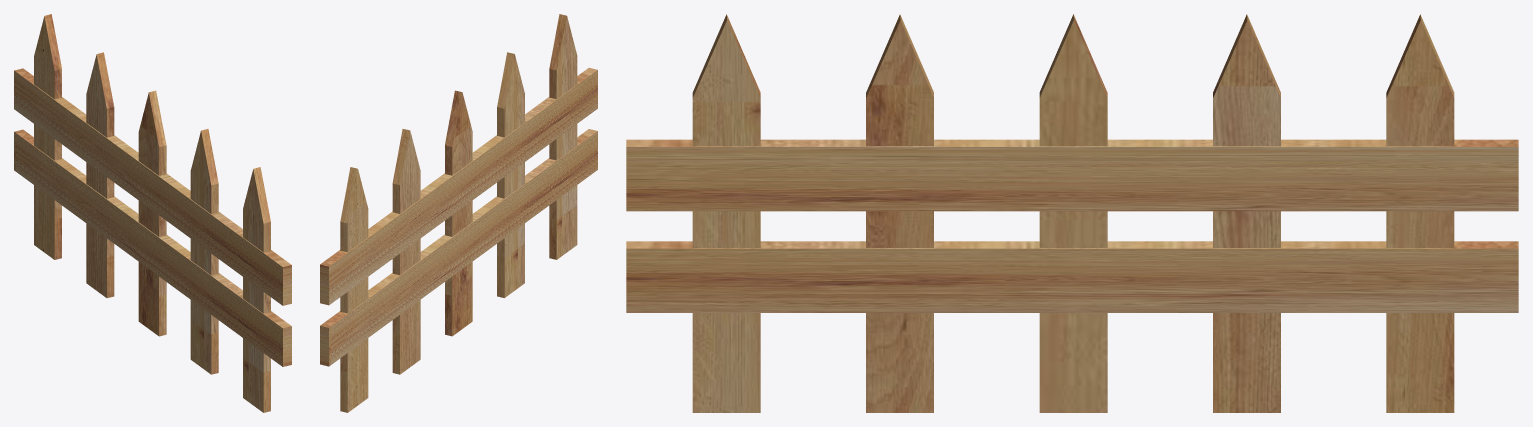
The model's file is cerca.glb.
The picture shows the model from 3 angles, left to right: view 1: azimuth 30°, elevation 25°; view 2: azimuth 150°, elevation 25°; view 3: azimuth 270°, elevation 25°; orthographic projection. The views are drawn at different scales.
Visible parts, largest first — view 1: Plane; view 2: Plane; view 3: Plane.
Boxes of the visible parts, bbox=[...] form: Plane: bbox=[14, 14, 291, 412]; Plane: bbox=[320, 14, 597, 412]; Plane: bbox=[626, 14, 1518, 412].
Size of the model in its own units: 0.0641 by 1.6 by 3.3.
Materials: 1 (1 with a texture image).
